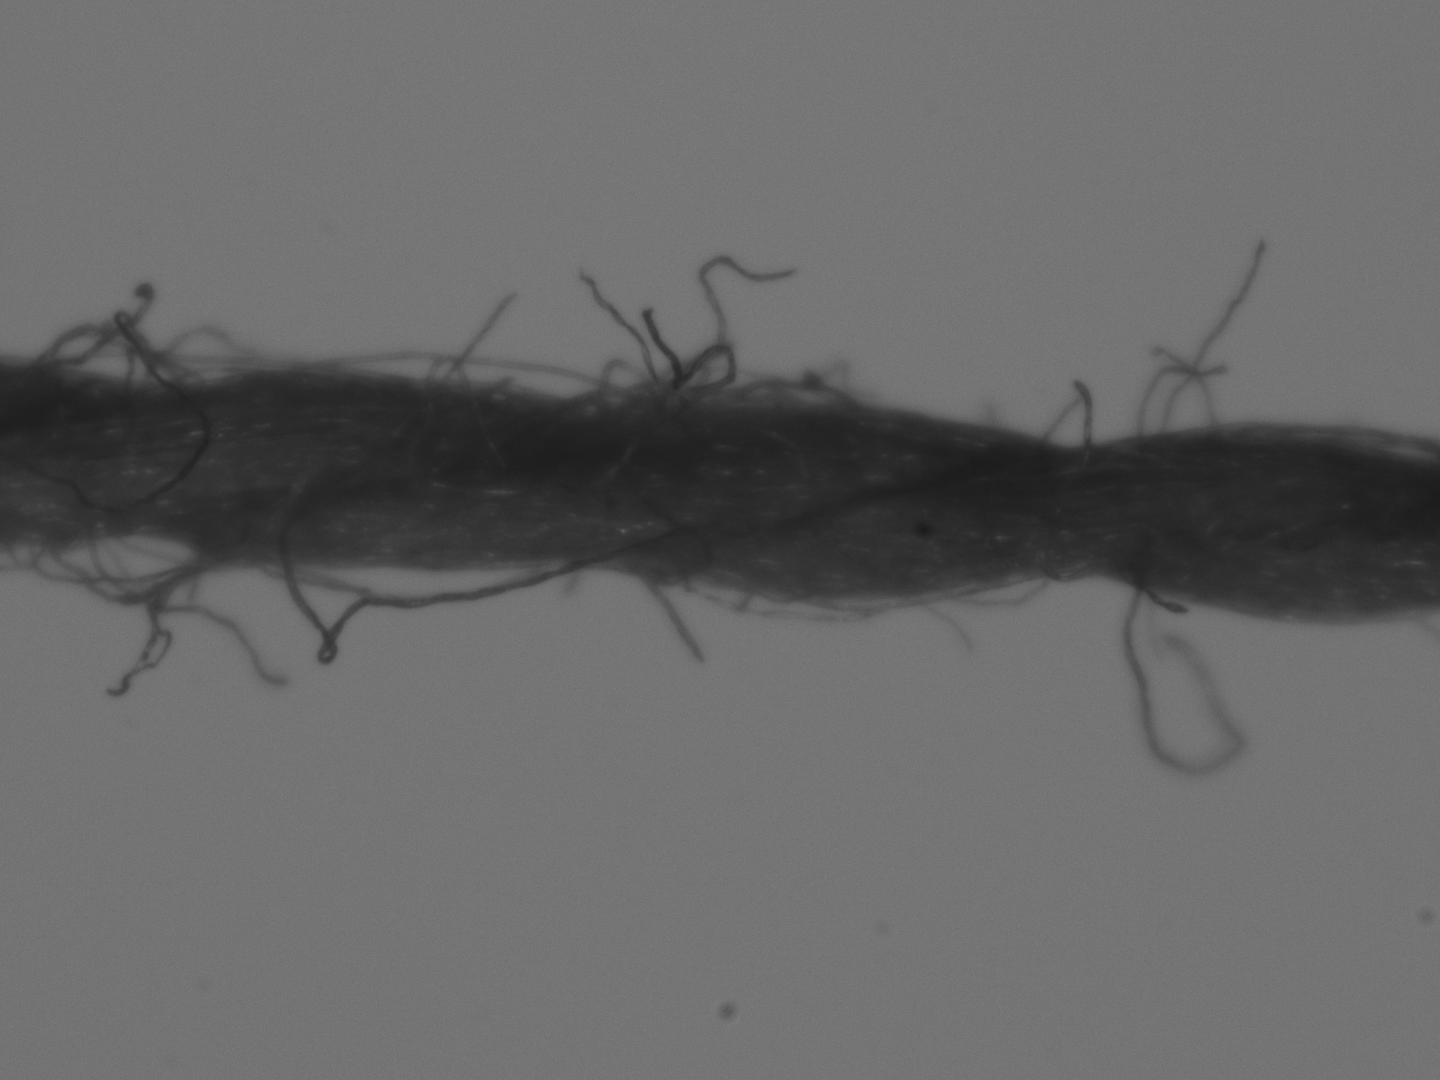loop_fiber: (248, 558, 594, 667), (19, 278, 297, 387), (672, 567, 1050, 625), (299, 347, 634, 410), (1, 531, 235, 610), (567, 340, 739, 411), (731, 356, 882, 417), (1036, 374, 1094, 448)
protruding_fiber: (90, 534, 293, 694), (1121, 581, 1247, 778), (1157, 231, 1271, 433), (666, 250, 797, 391), (105, 548, 217, 700), (576, 268, 671, 403), (1133, 360, 1239, 440), (437, 285, 522, 381), (629, 566, 708, 667), (1145, 344, 1221, 434), (637, 303, 693, 403), (1140, 584, 1188, 618)
